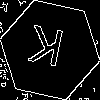K: (25, 25, 66, 77)
